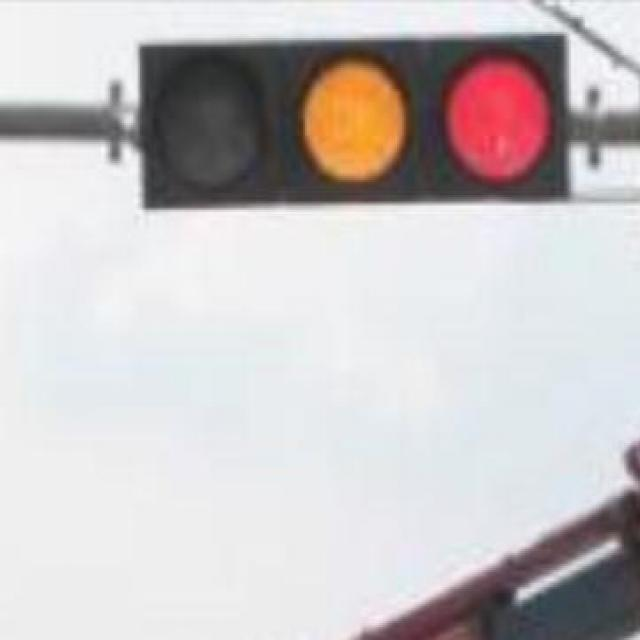yellow_light: (28, 85, 174, 598)
